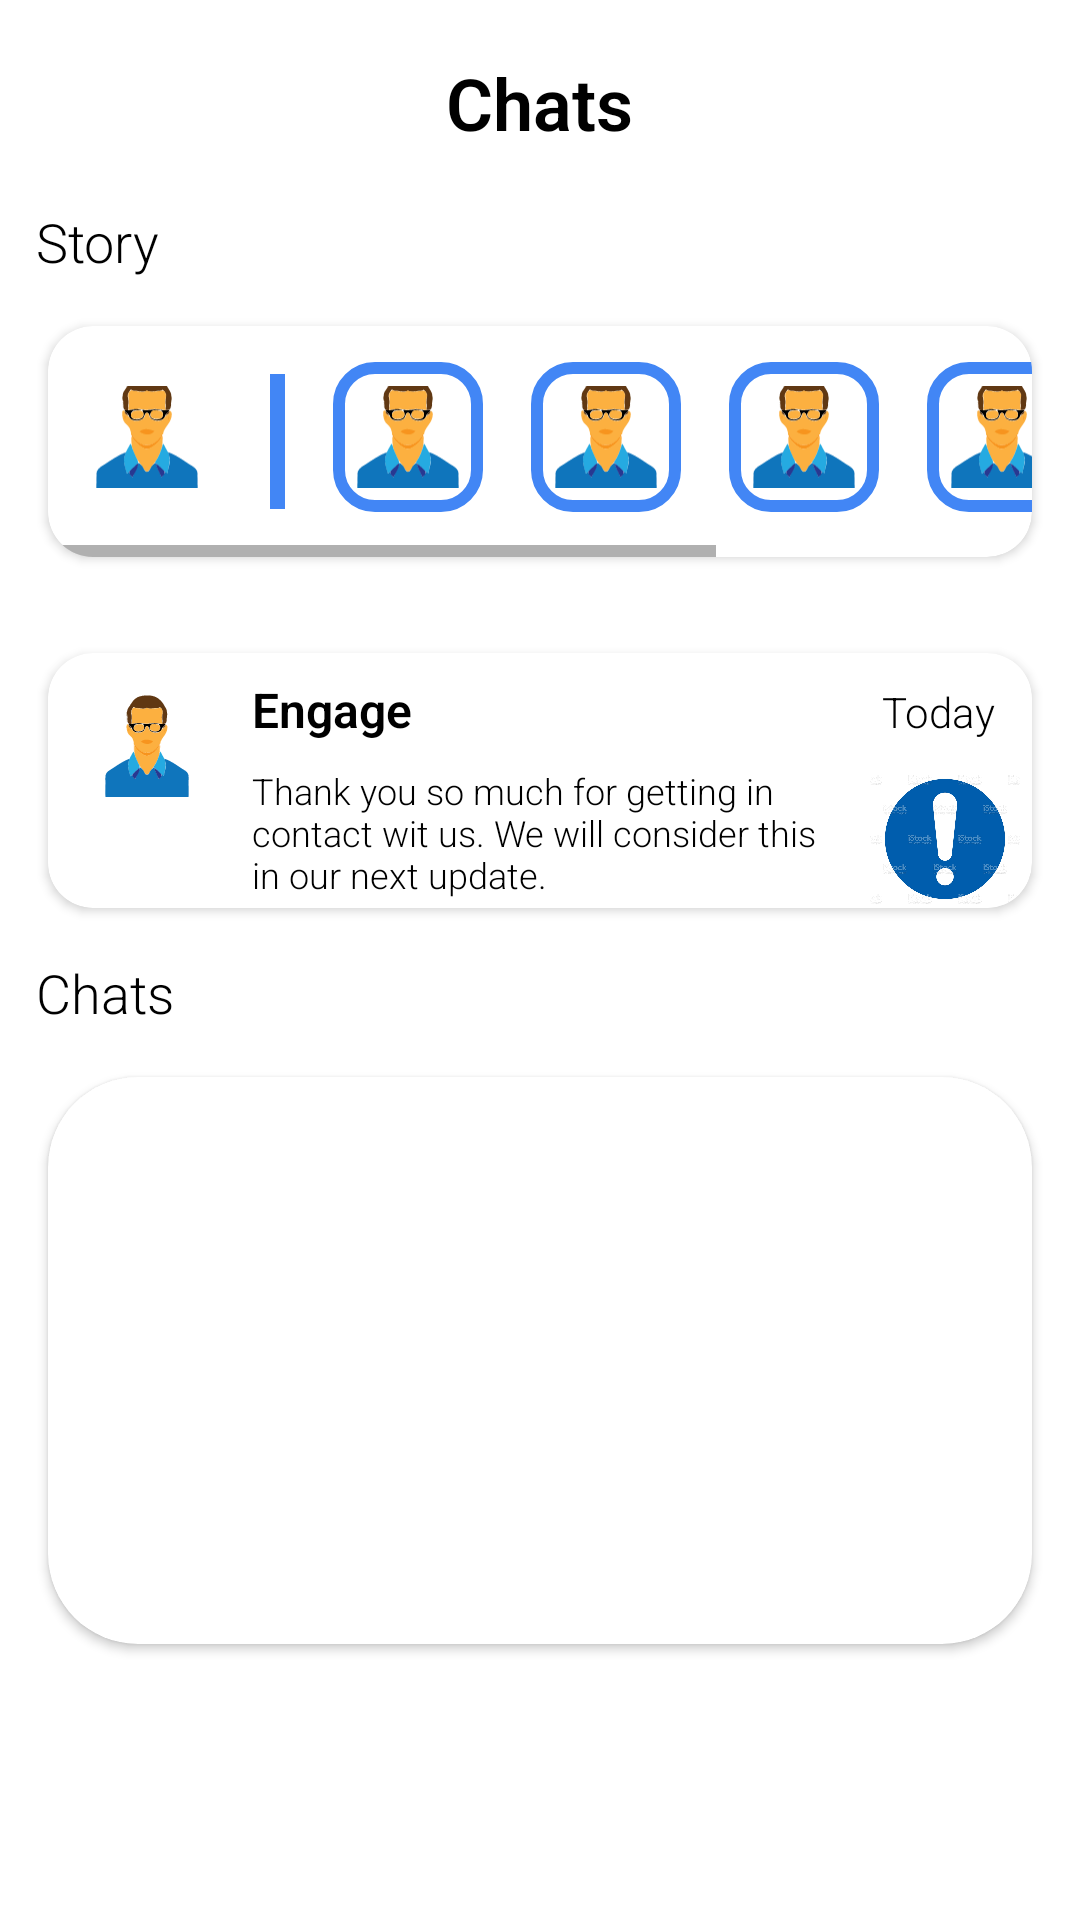

Point at icon controls on the screen. Image size 1080x1920, points as (x,y).
exc: (940,841)
